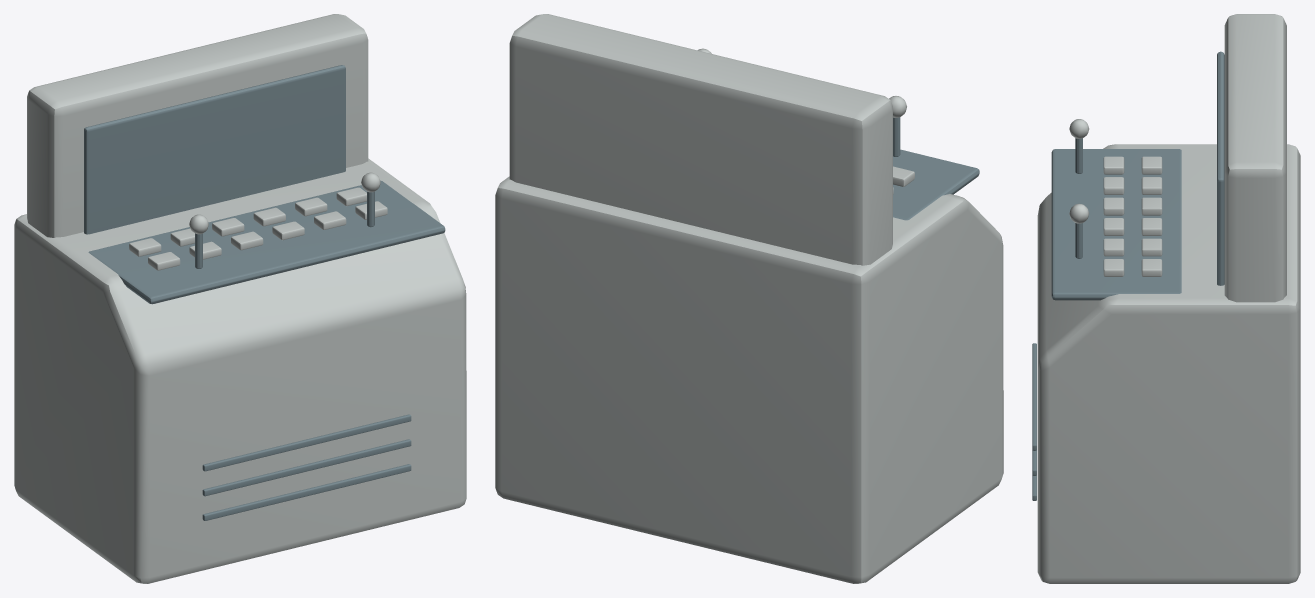
Rendered from control-console.glb.
3 views of the same model, side by side, from view 1: azimuth 30°, elevation 25°; view 2: azimuth 150°, elevation 25°; view 3: azimuth 270°, elevation 25° (orthographic). The views are drawn at different scales.
Visible parts, largest first — view 1: console_body, screen, rear_display_case, desk_panel, vent.002, vent, vent.001; view 2: console_body, rear_display_case, desk_panel; view 3: console_body, rear_display_case, desk_panel, screen, vent.002, button, button.001, button.004, button.005, button.008, button.009, button.002 (+5 smaller).
Boxes of the visible parts, x1,y1,x2,y2 form: console_body: [14, 158, 466, 583]; screen: [84, 65, 345, 234]; rear_display_case: [27, 14, 368, 237]; desk_panel: [88, 180, 445, 304]; vent.002: [202, 414, 411, 471]; vent: [202, 464, 411, 520]; vent.001: [202, 439, 411, 496]; console_body: [495, 176, 1003, 583]; rear_display_case: [509, 14, 892, 265]; desk_panel: [893, 149, 979, 220]; console_body: [1037, 144, 1300, 583]; rear_display_case: [1224, 14, 1286, 302]; desk_panel: [1051, 149, 1181, 300]; screen: [1217, 51, 1224, 285]; vent.002: [1032, 343, 1036, 450]; button: [1141, 156, 1162, 174]; button.001: [1103, 156, 1124, 174]; button.004: [1141, 197, 1162, 215]; button.005: [1103, 197, 1124, 215]; button.008: [1141, 238, 1162, 256]; button.009: [1103, 238, 1124, 256]; button.002: [1141, 177, 1162, 194].
Bounding box in the file's own units: 1.12 × 1.33 × 0.776.
